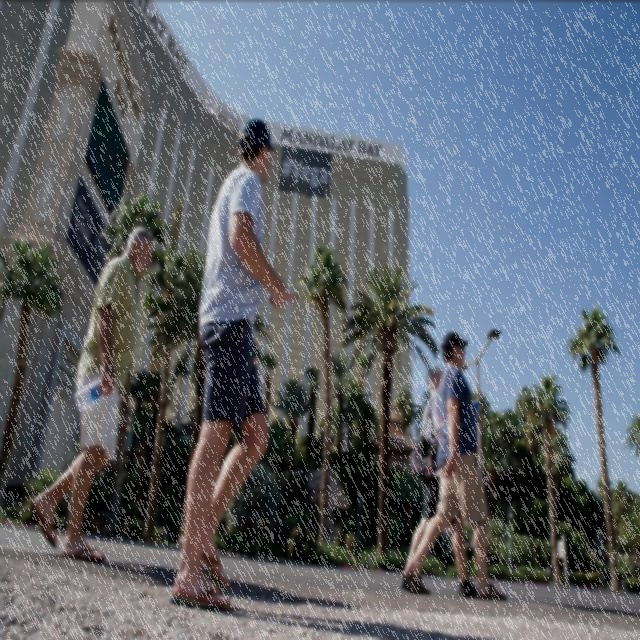pessoa: (166, 116, 296, 616), (28, 226, 156, 564), (400, 330, 508, 603), (398, 364, 480, 600)
